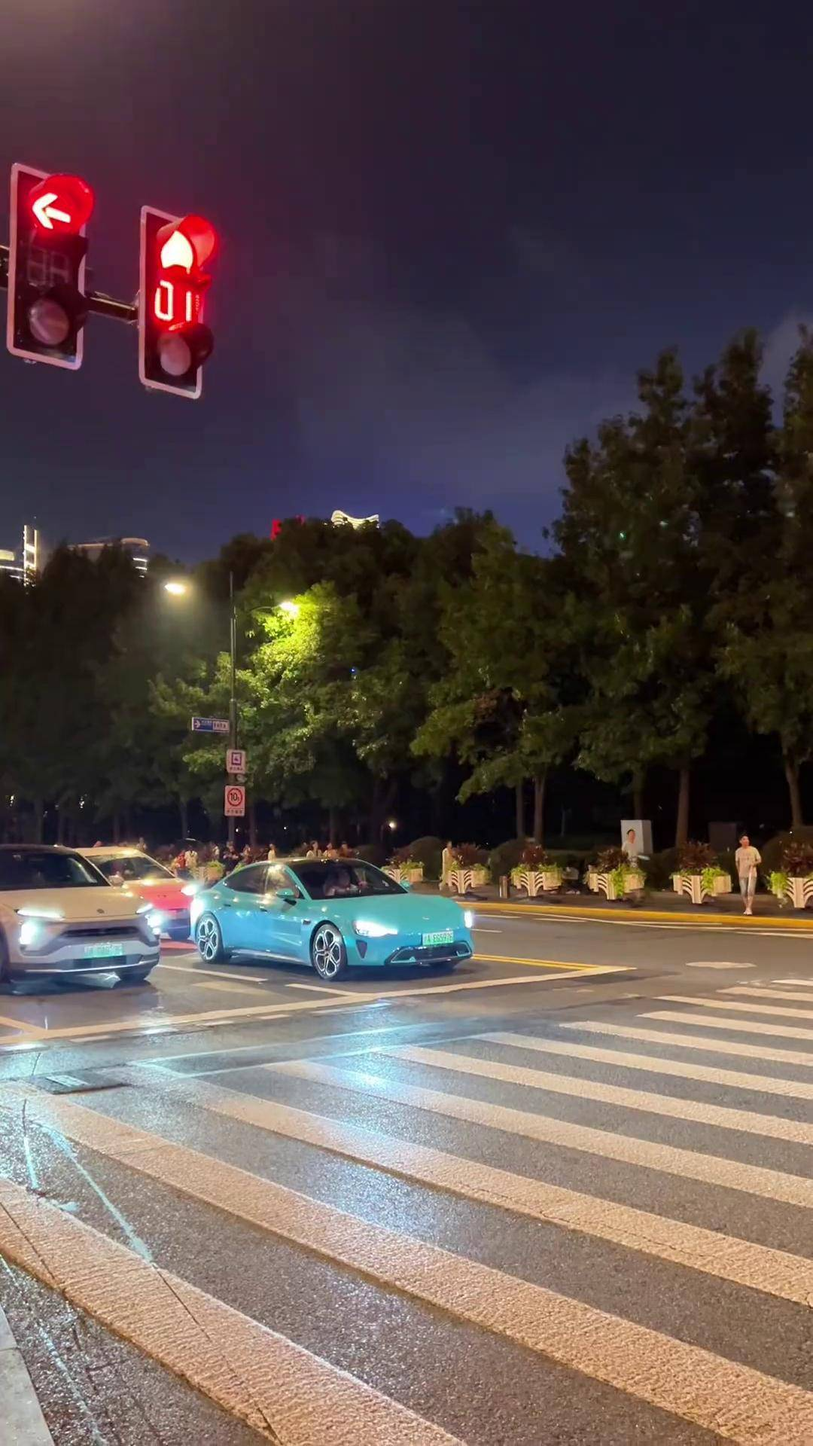other: (0, 842, 160, 993)
su7: (189, 857, 468, 979)
